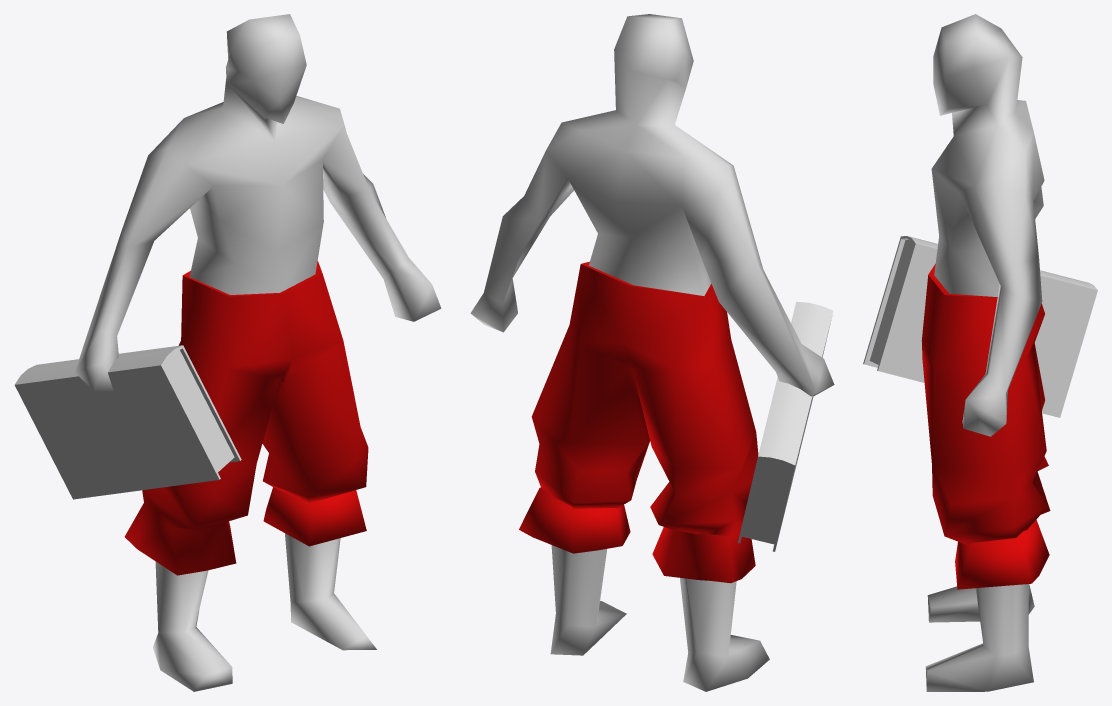
Rendered from MageEnnemi.fbx.
The picture shows the model from 3 angles, left to right: view 1: azimuth 30°, elevation 25°; view 2: azimuth 150°, elevation 25°; view 3: azimuth 270°, elevation 25°; orthographic projection.
Visible parts, largest first — view 1: Connect_2.001; view 2: Connect_2.001; view 3: Connect_2.001.
Part boxes in pixels (x1,y1,x2,y2): Connect_2.001: (14,14,441,691); Connect_2.001: (470,14,834,691); Connect_2.001: (863,14,1097,691).
Size of the model in its own units: 113 by 188 by 63.8.
